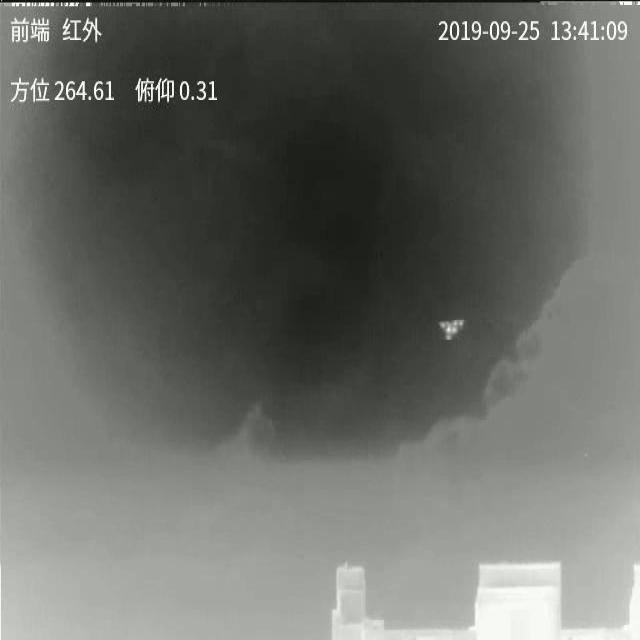drone: (437, 319, 465, 341)
